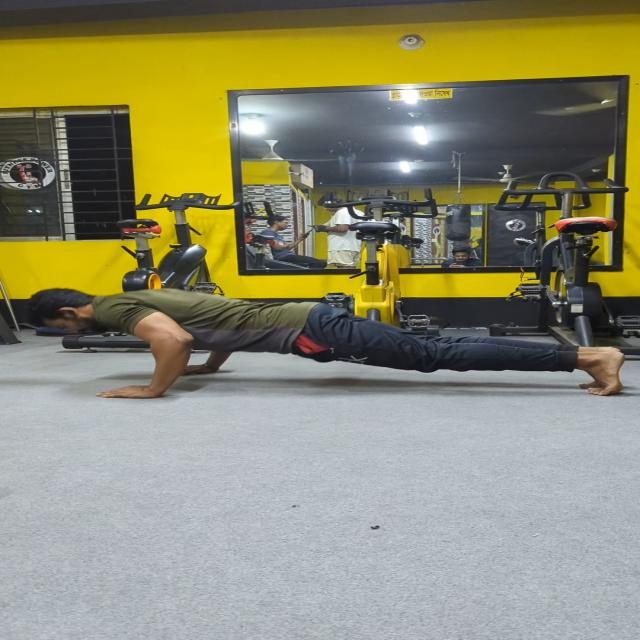Normal_PushUps: (0, 246, 640, 452)
